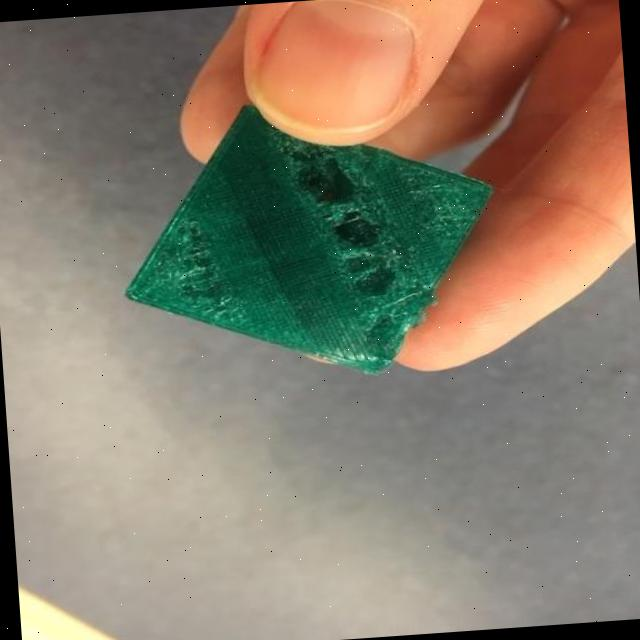cracks: (274, 130, 444, 350), (150, 214, 247, 332)
